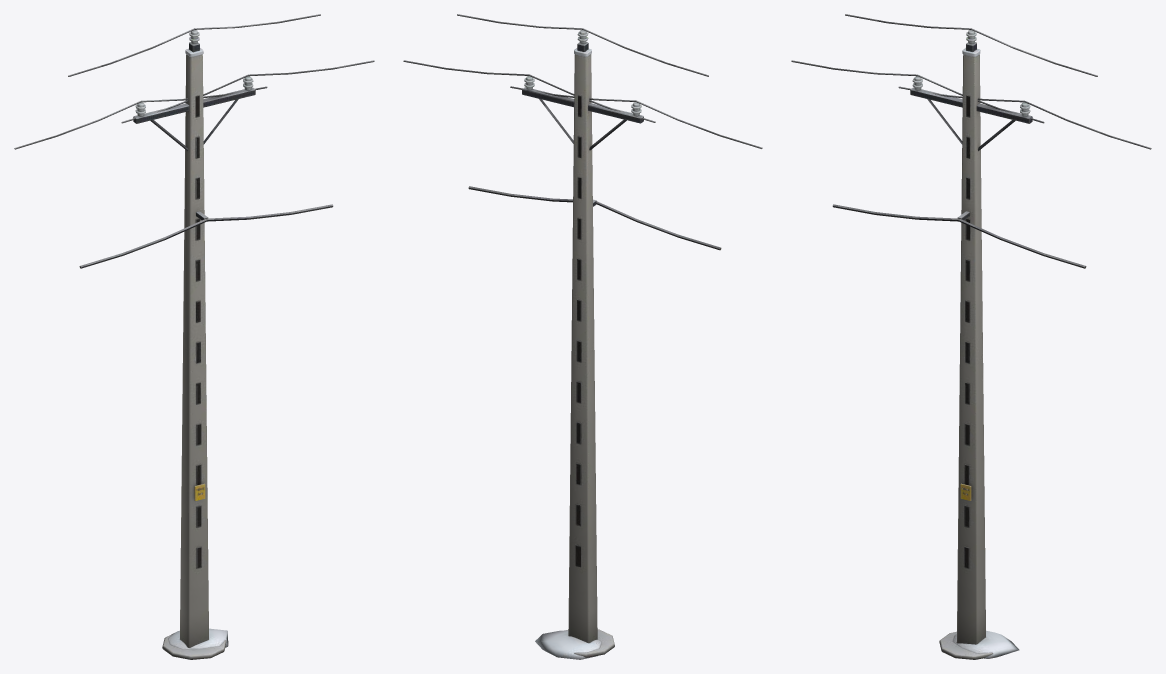
File: pole_upright.glb
3 views of the same model, side by side, from view 1: azimuth 30°, elevation 25°; view 2: azimuth 150°, elevation 25°; view 3: azimuth 330°, elevation 25° (orthographic).
Visible parts, largest first — view 1: pole_upright; view 2: pole_upright; view 3: pole_upright.
Boxes of the visible parts, x1,y1,x2,y2 form: pole_upright: [14, 14, 374, 659]; pole_upright: [403, 14, 762, 659]; pole_upright: [791, 14, 1151, 659].
Bounding box in the file's own units: 5.7 × 9.38 × 0.9844.
1 material, 1 textured.
